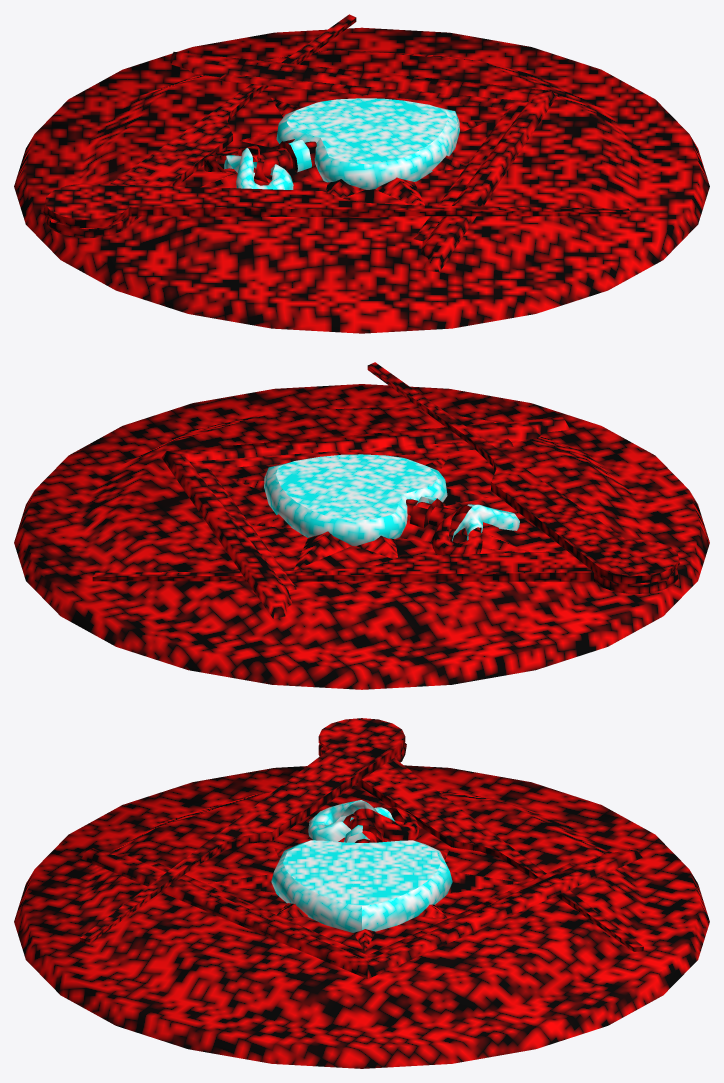
File: SM_TreasureChest_01_GDH.fbx
3 views of the same model, one above another, from view 1: azimuth 30°, elevation 25°; view 2: azimuth 150°, elevation 25°; view 3: azimuth 270°, elevation 25° (orthographic).
Visible parts, largest first — view 1: SM_TreasureChest_01_GDH; view 2: SM_TreasureChest_01_GDH; view 3: SM_TreasureChest_01_GDH.
Boxes of the visible parts, x1,y1,x2,y2 form: SM_TreasureChest_01_GDH: (14, 14, 709, 333); SM_TreasureChest_01_GDH: (14, 362, 709, 689); SM_TreasureChest_01_GDH: (14, 718, 709, 1068).
Size of the model in its own units: 44.12 by 4.49 by 43.27.
